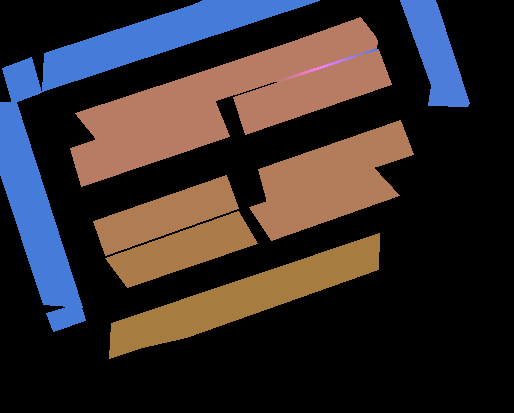parkingspot: (75, 17, 377, 139), (109, 233, 379, 358), (42, 0, 319, 91), (0, 102, 82, 307), (70, 99, 229, 186), (233, 49, 391, 134), (258, 120, 413, 202), (93, 175, 238, 255), (105, 211, 257, 287), (249, 166, 399, 240), (400, 0, 469, 106), (2, 57, 41, 103), (46, 303, 85, 331)
